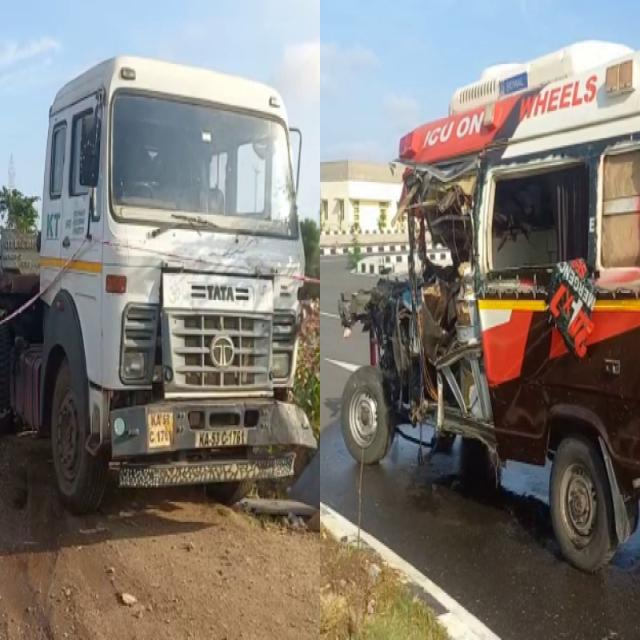accident: (339, 42, 640, 570)
truck: (0, 56, 316, 511)
